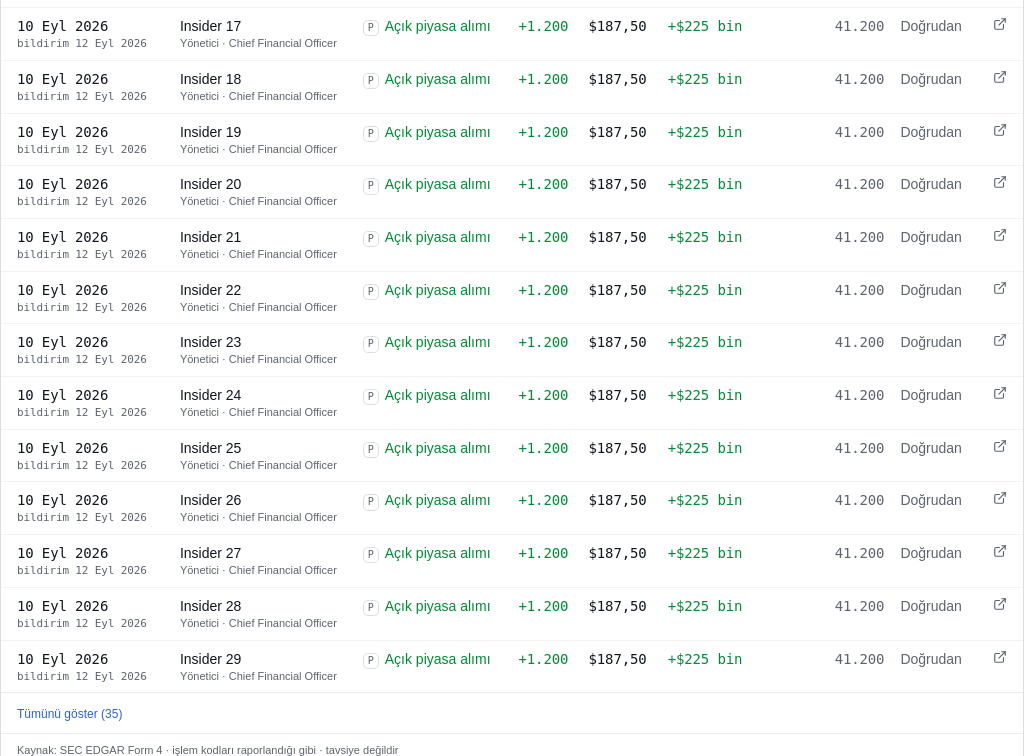
Test: Insiders › folds a long list after 30 rows behind a 'show all' button
(page scrolled)
Click the button "Tümünü göster (35)": point(70, 714) [17, 706, 122, 722]
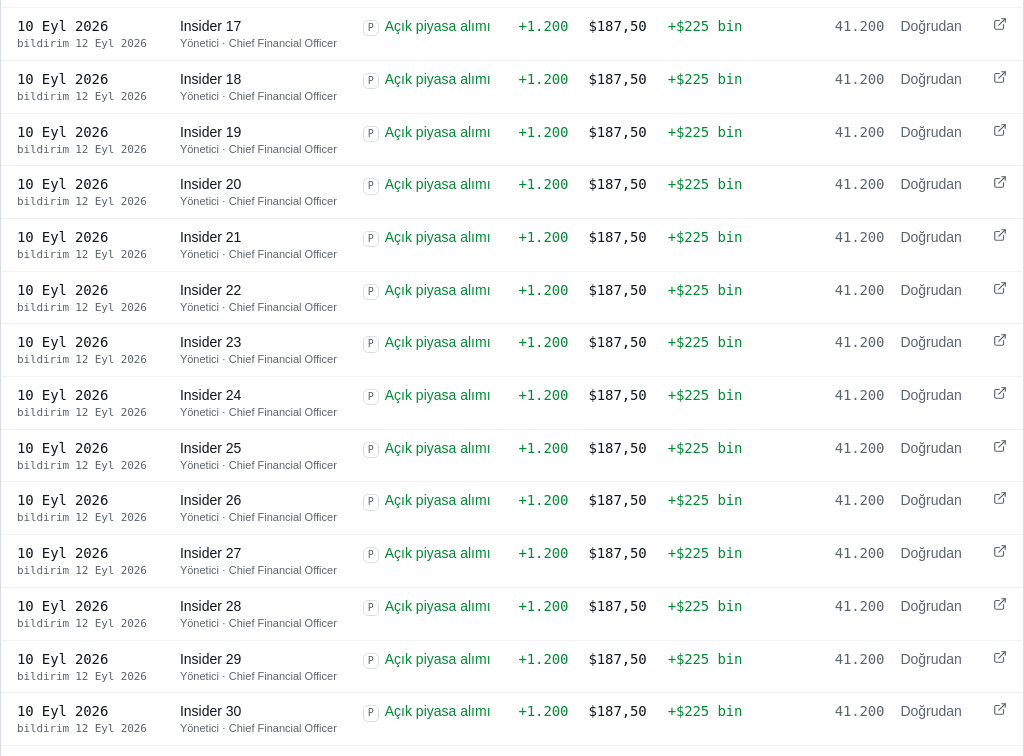
Result: the button "Tümünü göster" is gone
